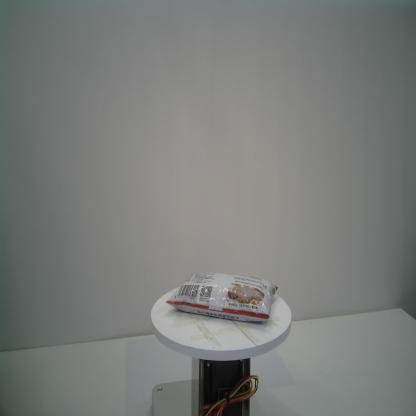Seasoner: (164, 270, 280, 324)
